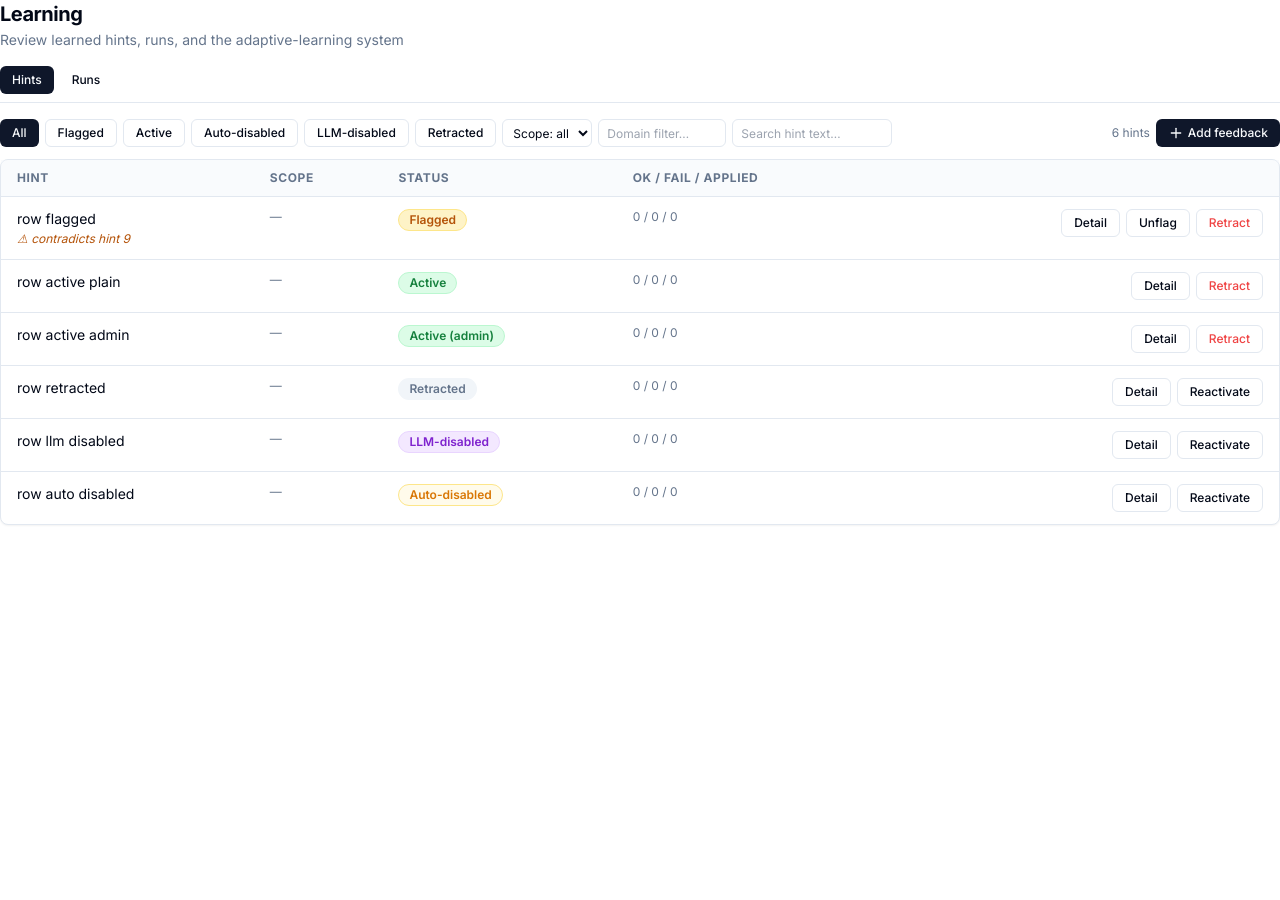
Scenario: Hints: status badges, and opening the drawer/sheet › opens the add-feedback sheet
Click the button "Add feedback" at (1218, 133), box [1156,119,1279,147]
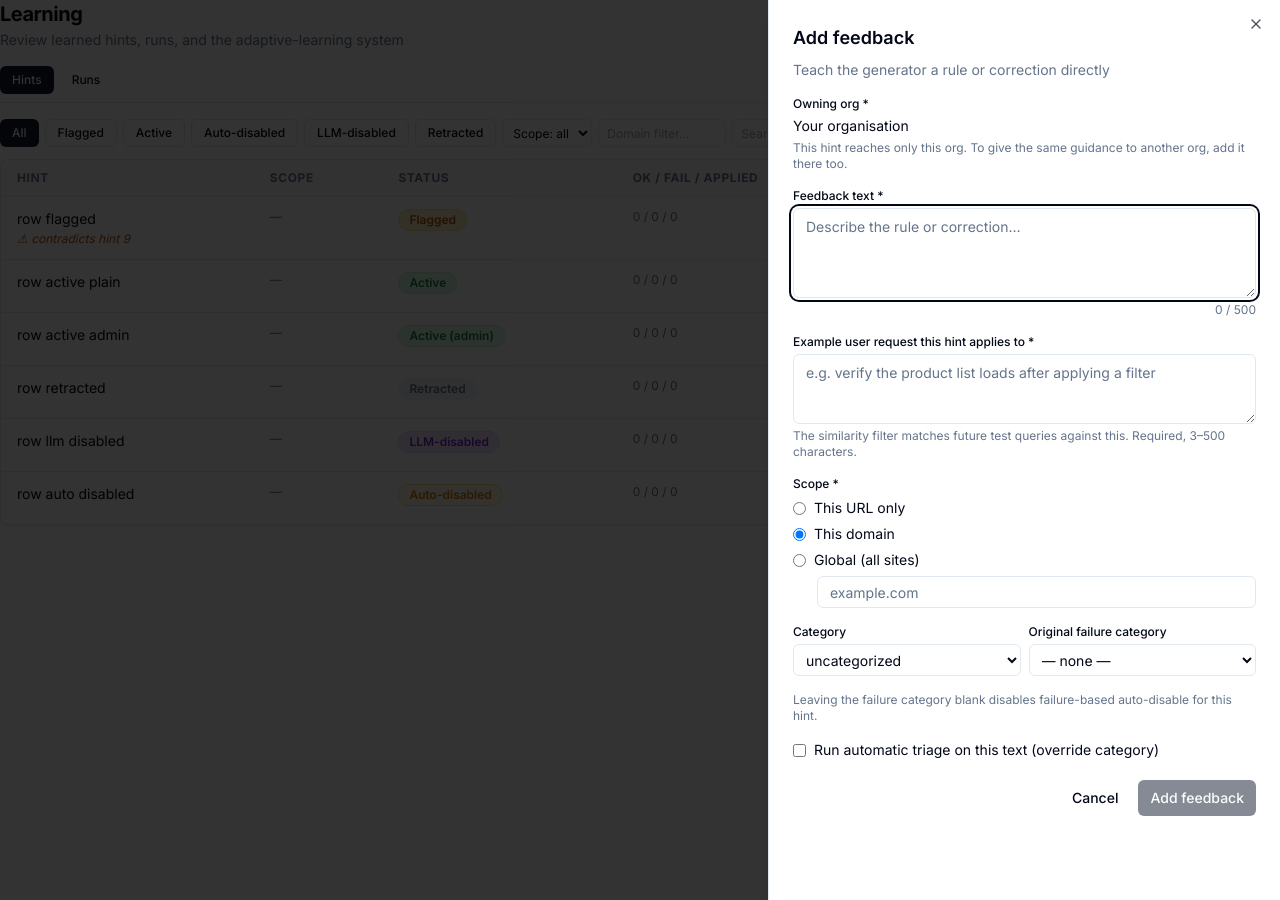
Expected: the text "Your organisation" is shown, [793,117,909,134]
